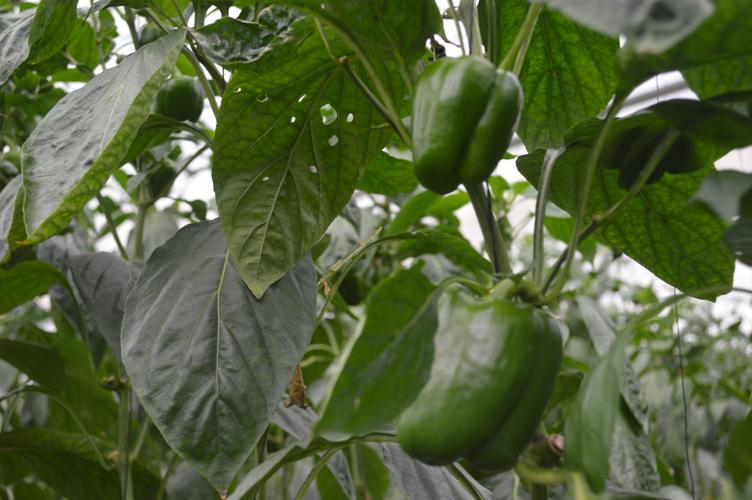BellPepper: (387, 277, 564, 476), (395, 46, 523, 202)
